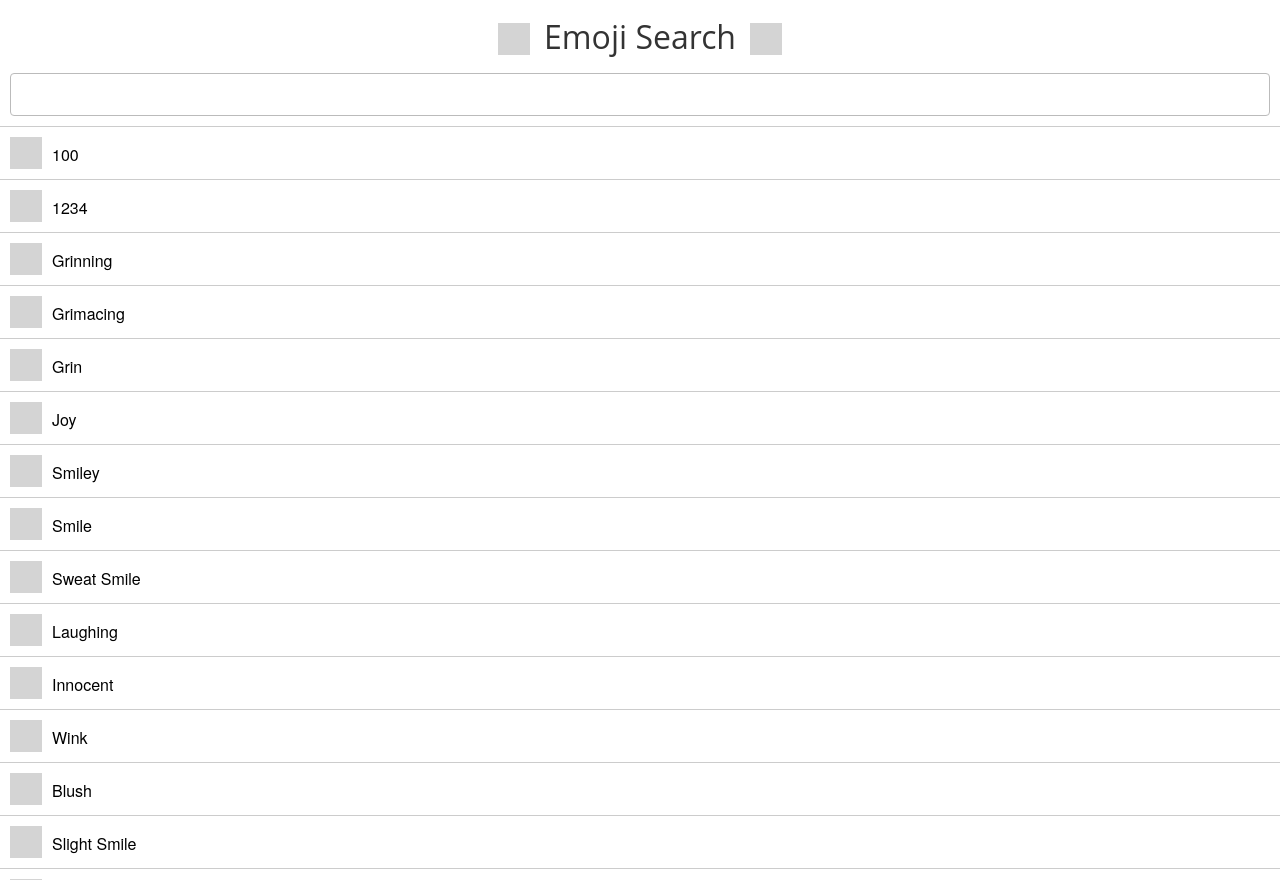
it: Emoji Search Test › emoji list filter and re-render
In the field: [640, 94] box left=10, top=73, right=1270, bottom=116, type "smile cat"
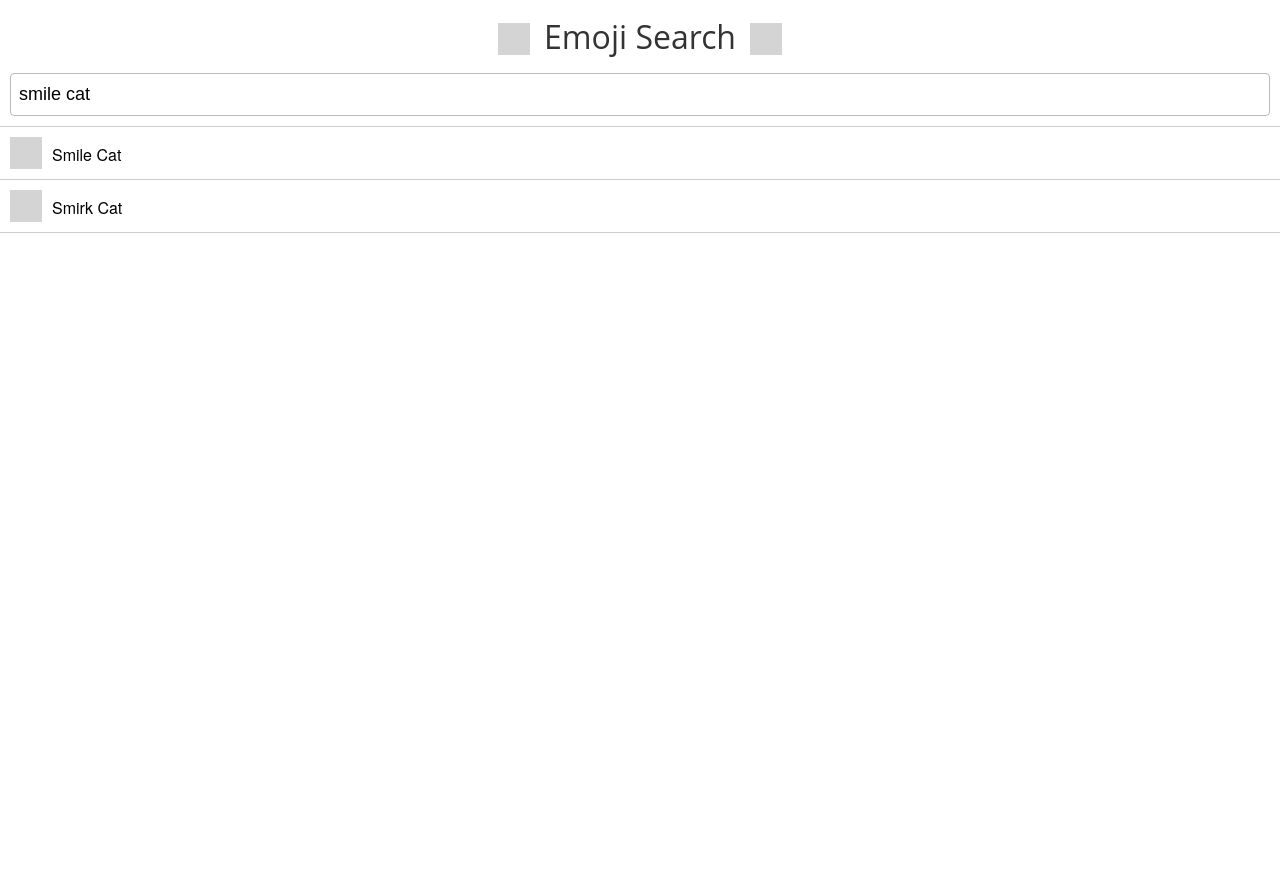
Result: the text "Smile Cat" is shown 2 times at left=52, top=143, right=121, bottom=166; left=52, top=196, right=122, bottom=219
